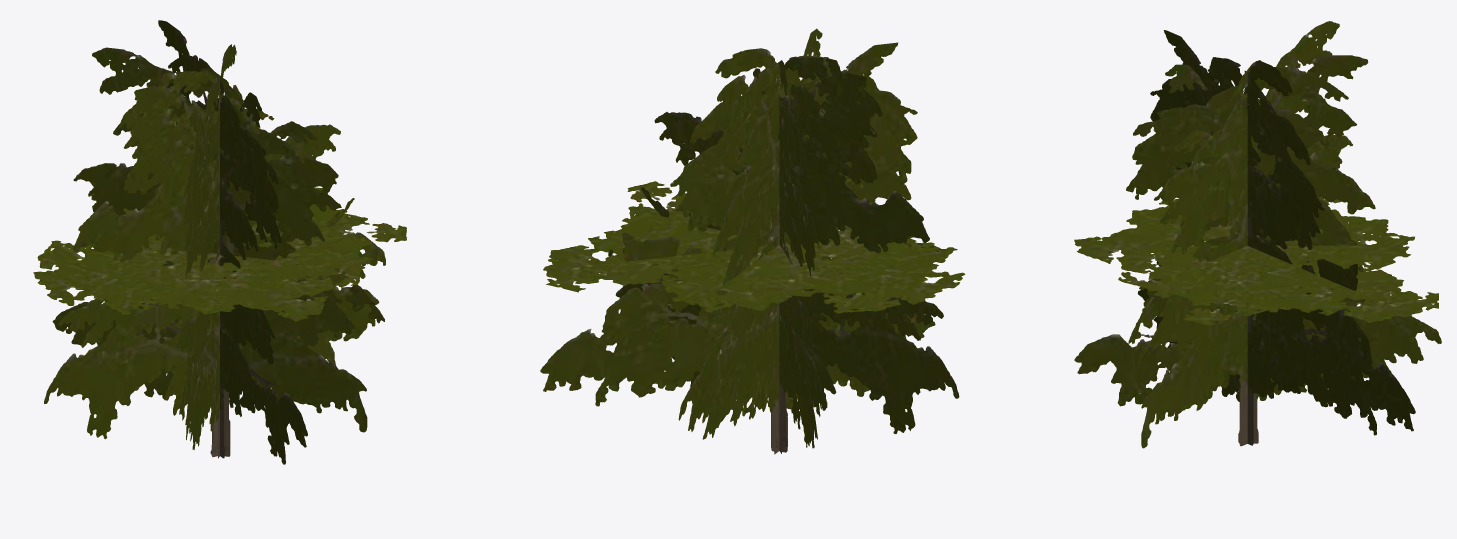
File: maple_m1_lod.glb
3 views of the same model, side by side, from view 1: azimuth 30°, elevation 25°; view 2: azimuth 150°, elevation 25°; view 3: azimuth 270°, elevation 25° (orthographic). The views are drawn at different scales.
Visible parts, largest first — view 1: Acer_medium_1_Billboard_LOD3_Acer_medium_1_Billboard_Mat_0; view 2: Acer_medium_1_Billboard_LOD3_Acer_medium_1_Billboard_Mat_0; view 3: Acer_medium_1_Billboard_LOD3_Acer_medium_1_Billboard_Mat_0.
Boxes of the visible parts, box(x1,y1,x2,y2) form: Acer_medium_1_Billboard_LOD3_Acer_medium_1_Billboard_Mat_0: box(33, 20, 406, 464); Acer_medium_1_Billboard_LOD3_Acer_medium_1_Billboard_Mat_0: box(540, 28, 965, 454); Acer_medium_1_Billboard_LOD3_Acer_medium_1_Billboard_Mat_0: box(1074, 21, 1441, 448).
Size of the model in its own units: 8.77 by 9.5 by 8.16.
Materials: 1 (1 with a texture image).
